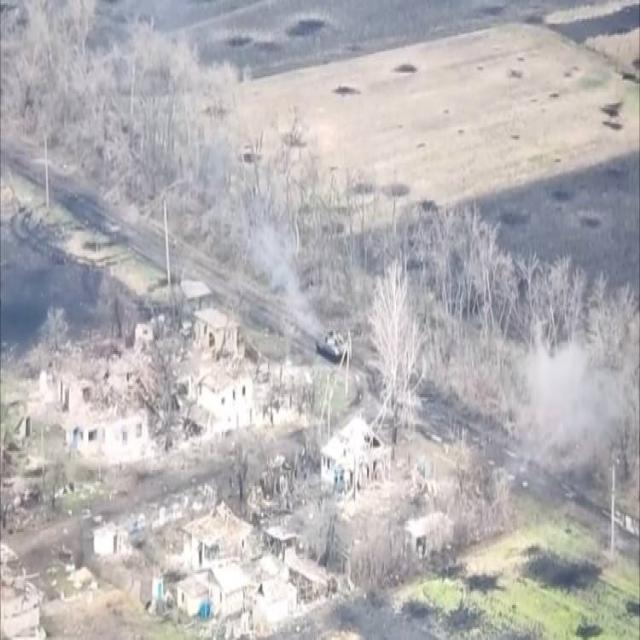MBT: (315, 325, 356, 369)
